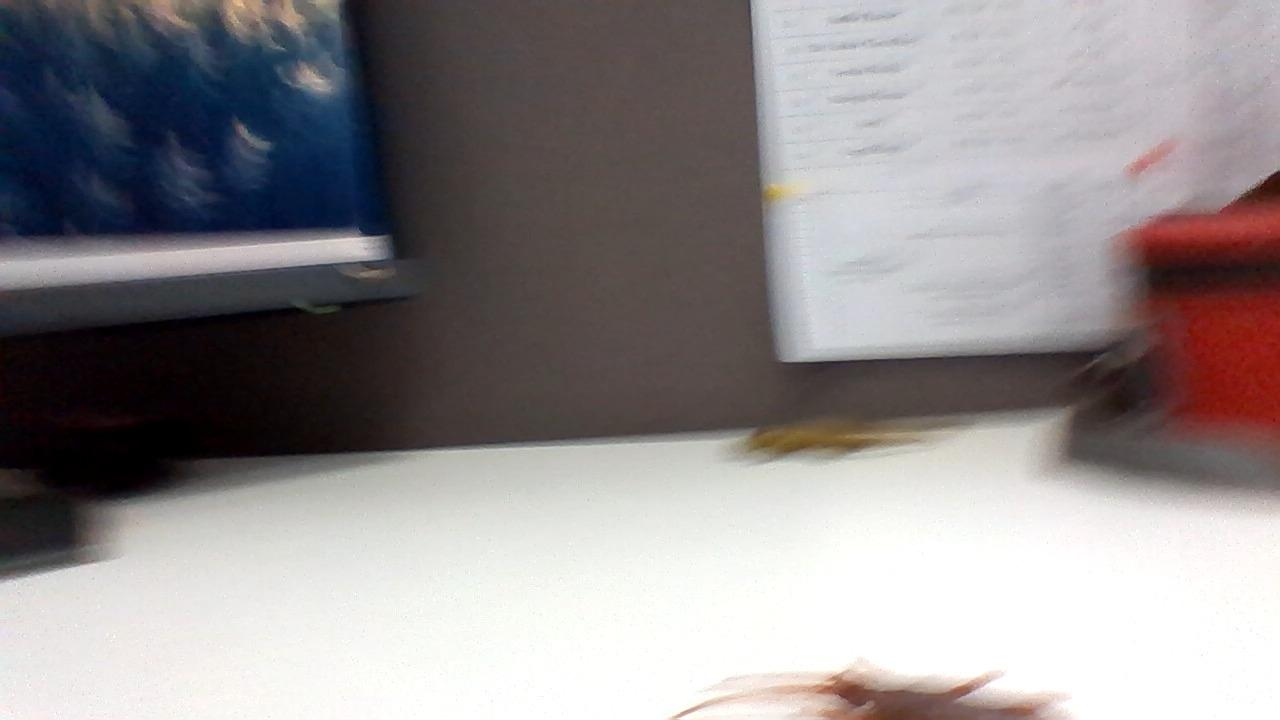cockroach: (683, 650, 1071, 720)
lizard: (723, 417, 946, 457)
